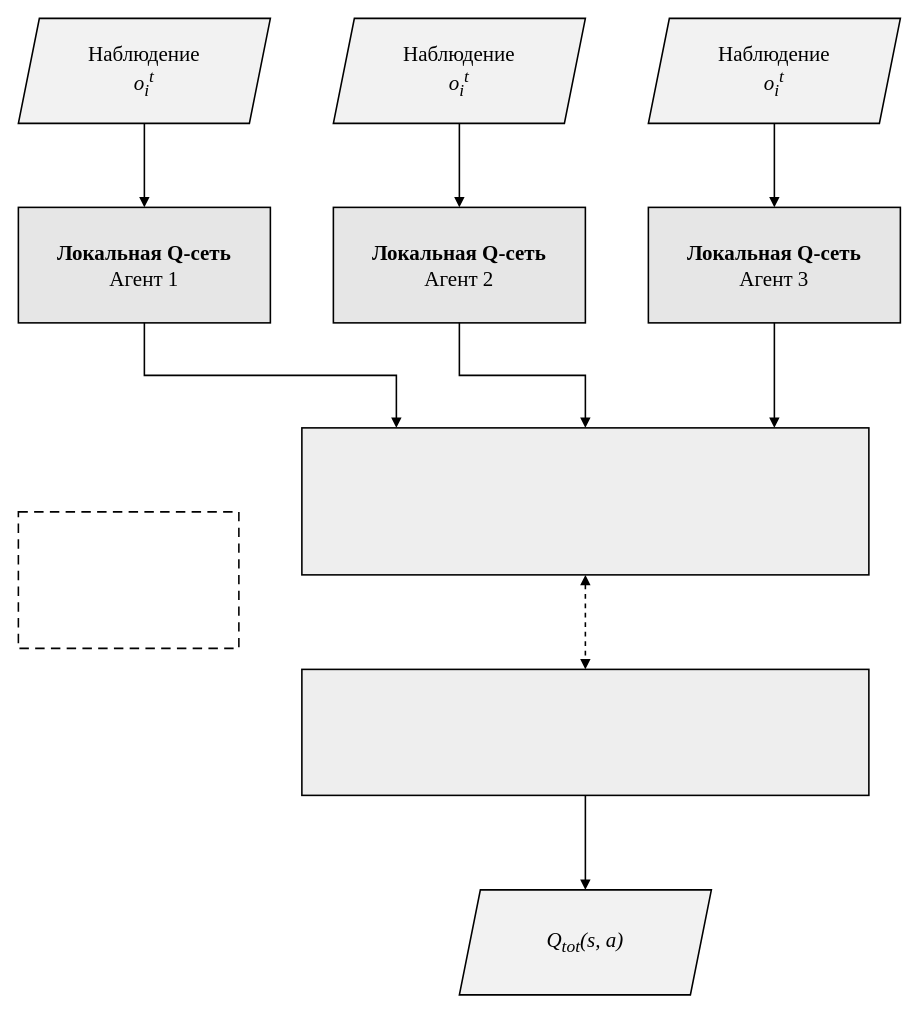
Image size: 920x1014. Some labels were removed from this diagram. The box of each missing label's shape, as (x1, y1, x2, y2) in pixels:
Буфер опыта: (17, 511, 239, 649)
Гибридная сеть смешивания Гиперсеть: Q tot = f mix (s, Q 1 , …, Q k ): (301, 427, 869, 575)
Целевые сети Мягкое обновление: α = 0.01: (301, 668, 869, 796)
